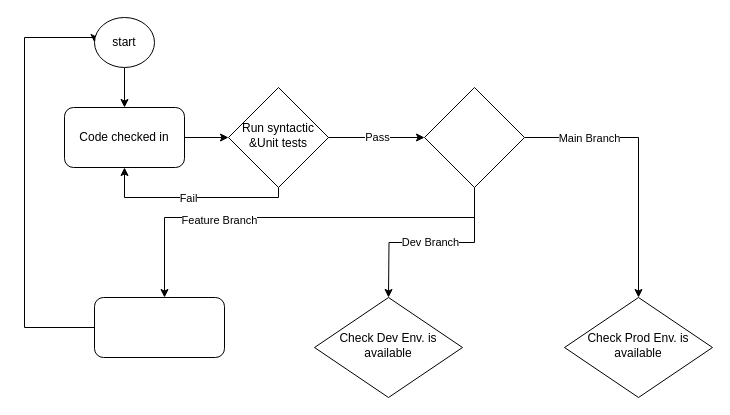
Some shapes in this 730 by 415 pixel diagram are drawn without their labels. The centre of each missing label's shape, as x and y in pixels:
Determine Environment: the point at 474,137
Ready to raise pull request to Dev: the point at 159,327
